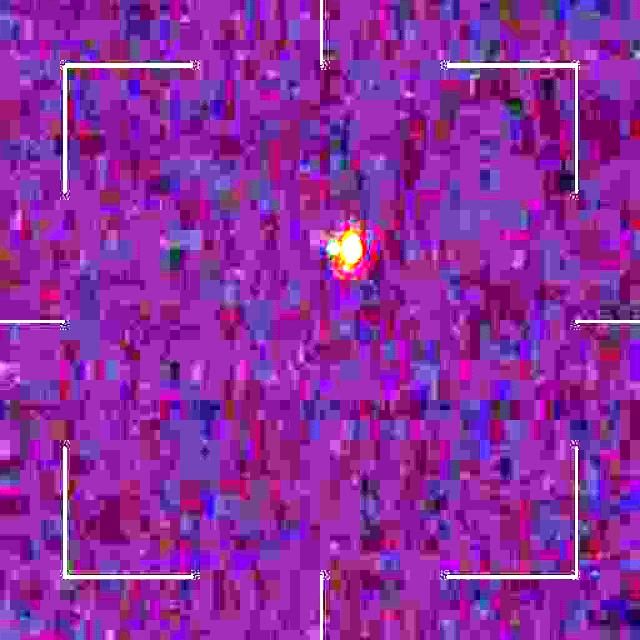bird: (329, 226, 362, 279)
